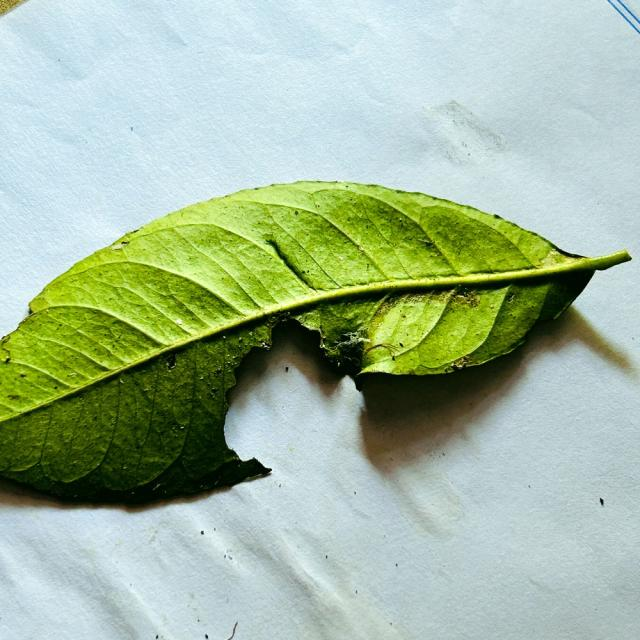Deficiency Leaf: (225, 335, 367, 488)
Lemon: (0, 181, 630, 499)
